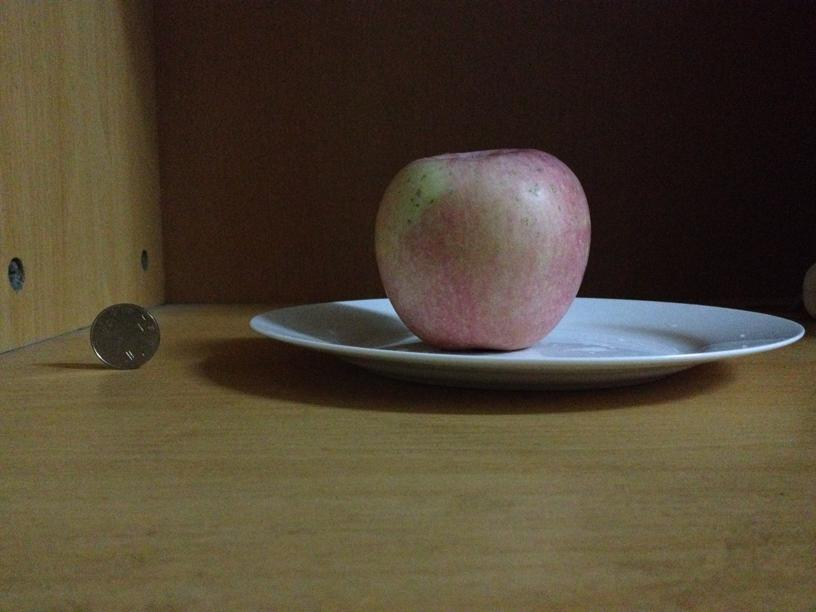apple: (372, 149, 589, 351)
coin: (89, 301, 161, 369)
